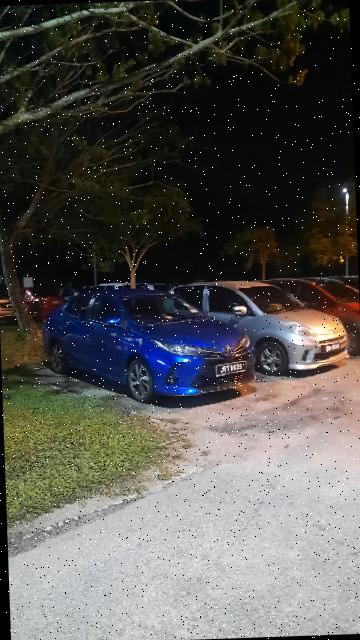License_Plate: (215, 362, 249, 378), (324, 342, 342, 353)
car: (40, 282, 265, 417), (169, 276, 353, 380)
